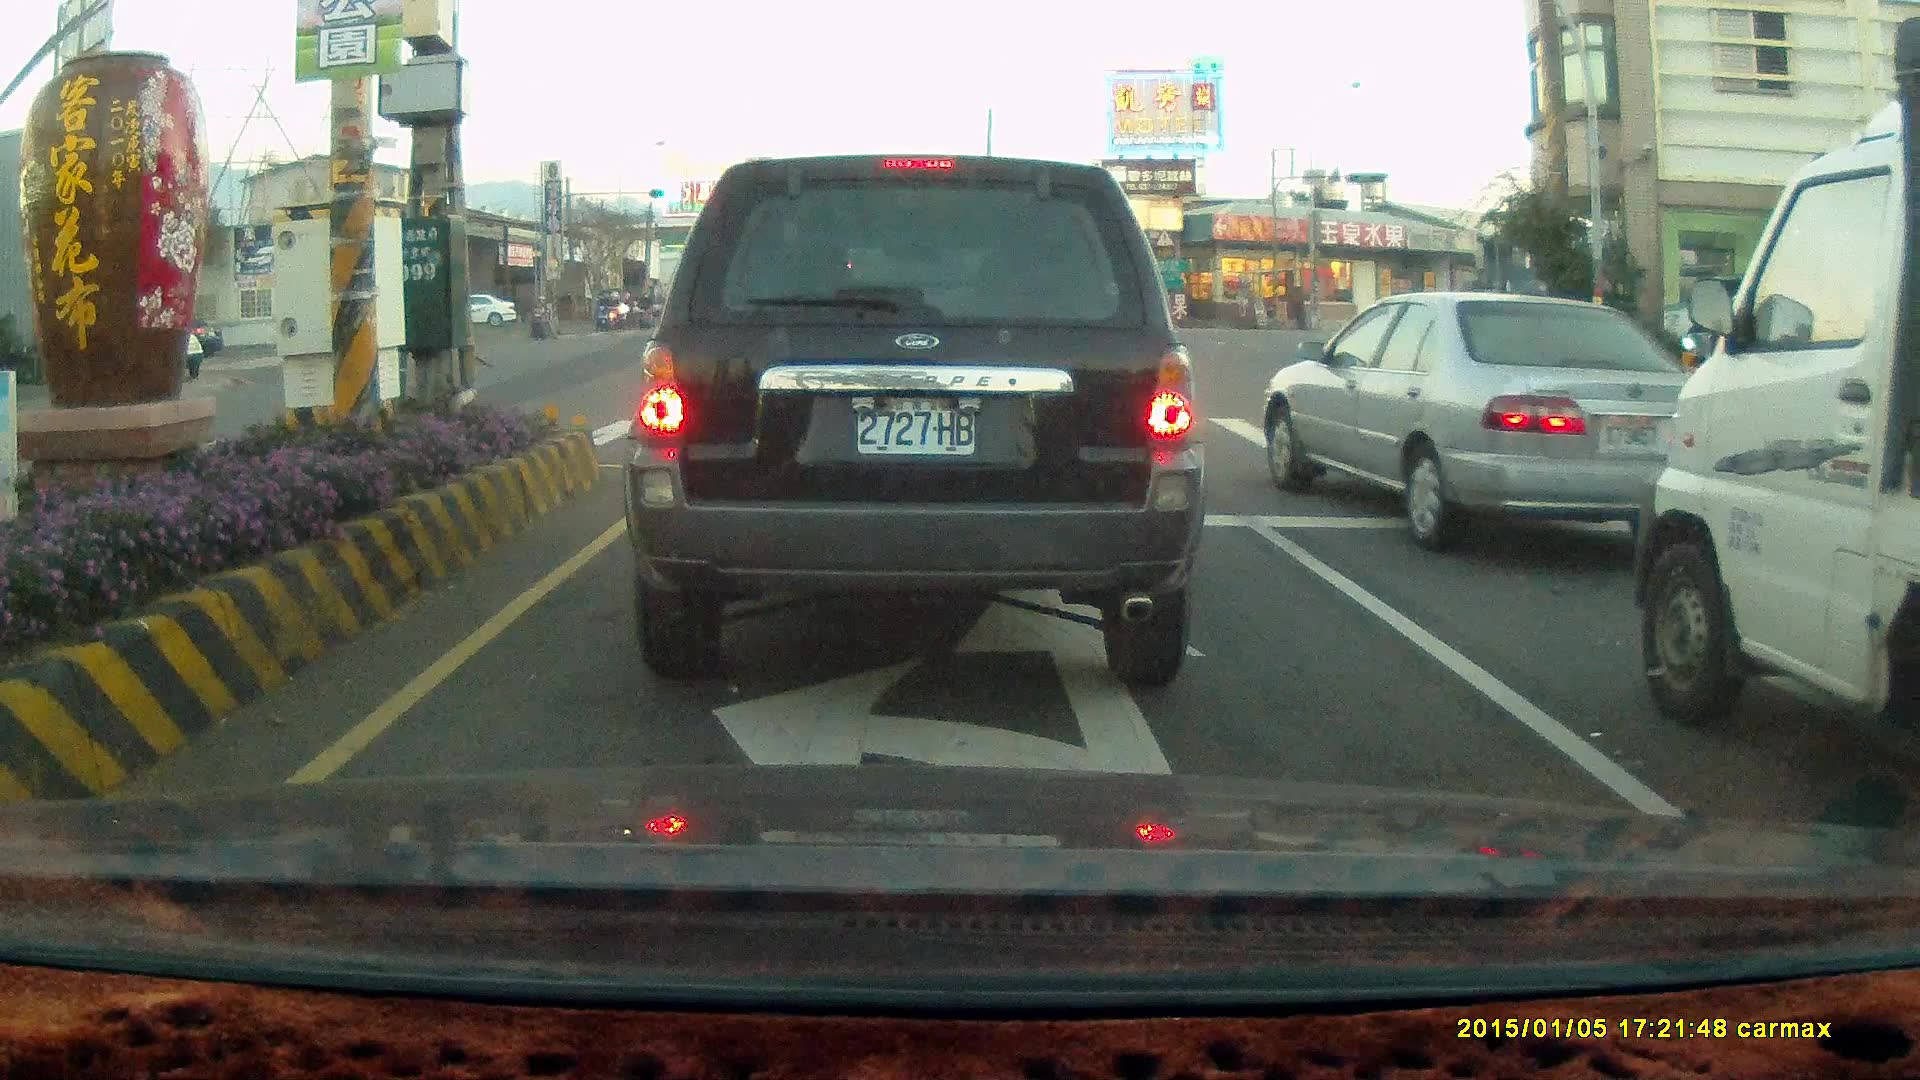rider: (526, 288, 556, 340), (633, 289, 655, 328), (591, 289, 612, 330), (596, 293, 617, 330)
vehicle: (619, 151, 1206, 691), (1630, 15, 1920, 785), (1258, 290, 1735, 553), (1272, 288, 1718, 552), (1653, 276, 1871, 377), (1669, 277, 1824, 372), (448, 295, 519, 328)
